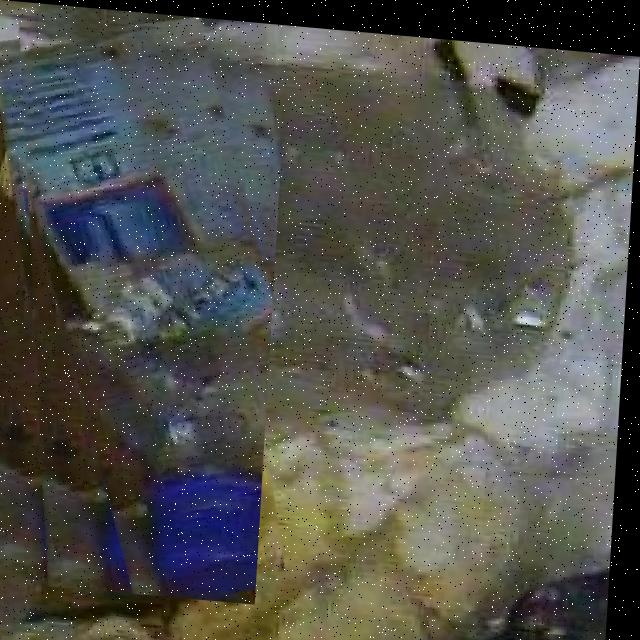litter: (0, 8, 289, 599)
